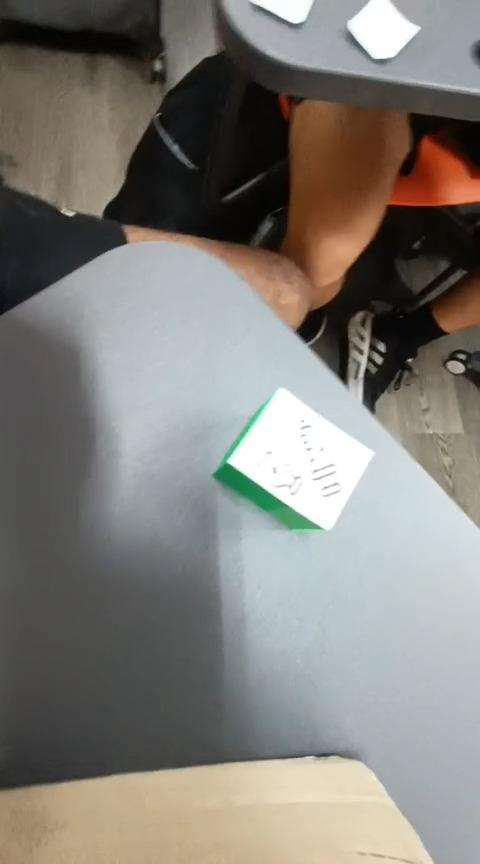antiseptic cream: (211, 385, 375, 533)
